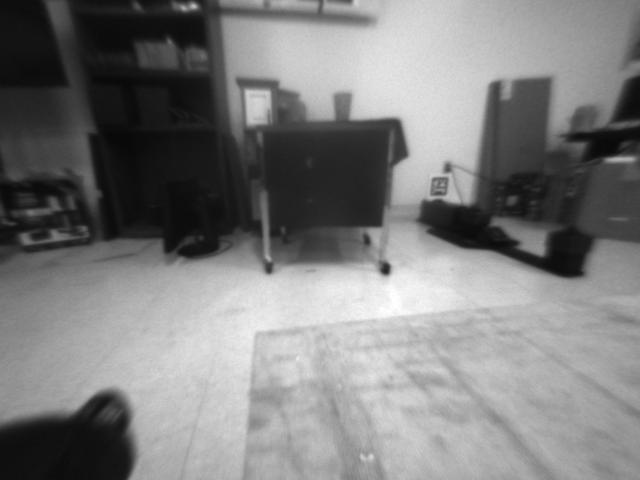coffee_cup: (330, 91, 353, 120)
